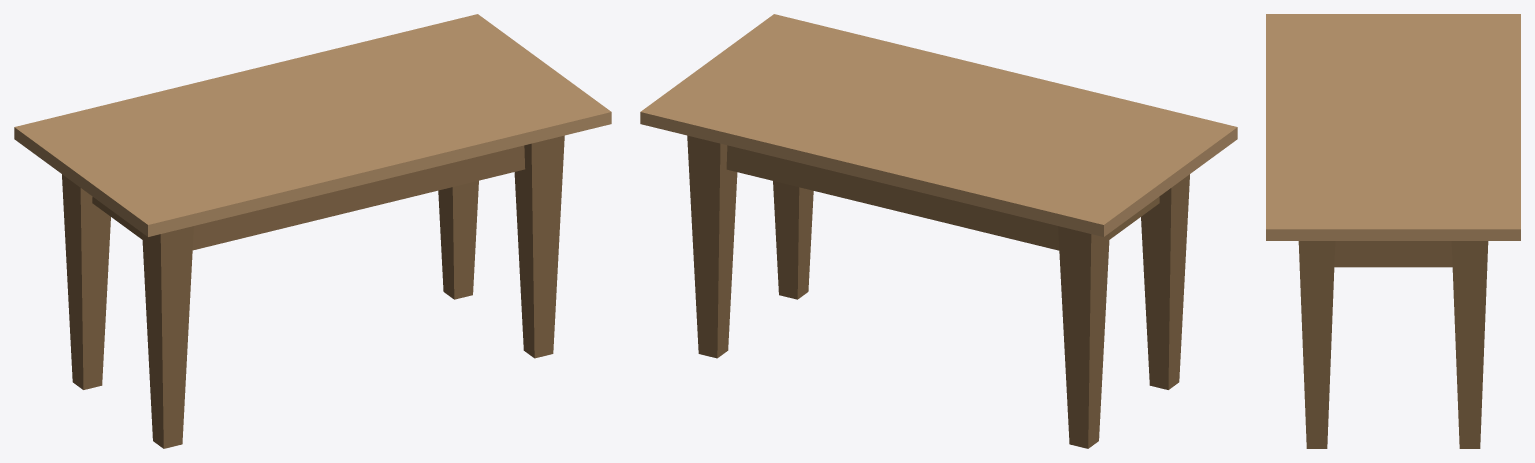
The model's file is 2seaterTable.fbx.
The picture shows the model from 3 angles, left to right: view 1: azimuth 30°, elevation 25°; view 2: azimuth 150°, elevation 25°; view 3: azimuth 270°, elevation 25°; orthographic projection. The views are drawn at different scales.
Parts seen in each view (by area): view 1: twoTop; view 2: twoTop; view 3: twoTop.
Boxes of the visible parts, bbox=[...] form: twoTop: bbox=[14, 14, 611, 448]; twoTop: bbox=[640, 14, 1237, 448]; twoTop: bbox=[1266, 14, 1520, 448].
Bounding box in the file's own units: 4 × 2.05 × 2.
